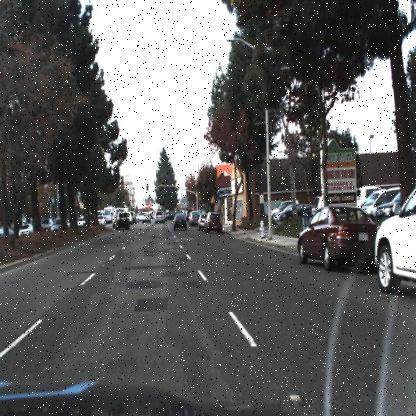car: (295, 202, 383, 273), (374, 183, 416, 293), (202, 208, 224, 240), (280, 203, 314, 217), (170, 211, 191, 232), (113, 209, 132, 232), (187, 209, 201, 230), (188, 208, 200, 230), (197, 209, 207, 233), (152, 208, 166, 225), (50, 217, 65, 231), (143, 214, 153, 223)
